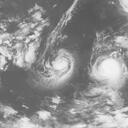cyclone: (91, 52, 127, 87), (43, 48, 77, 84)
